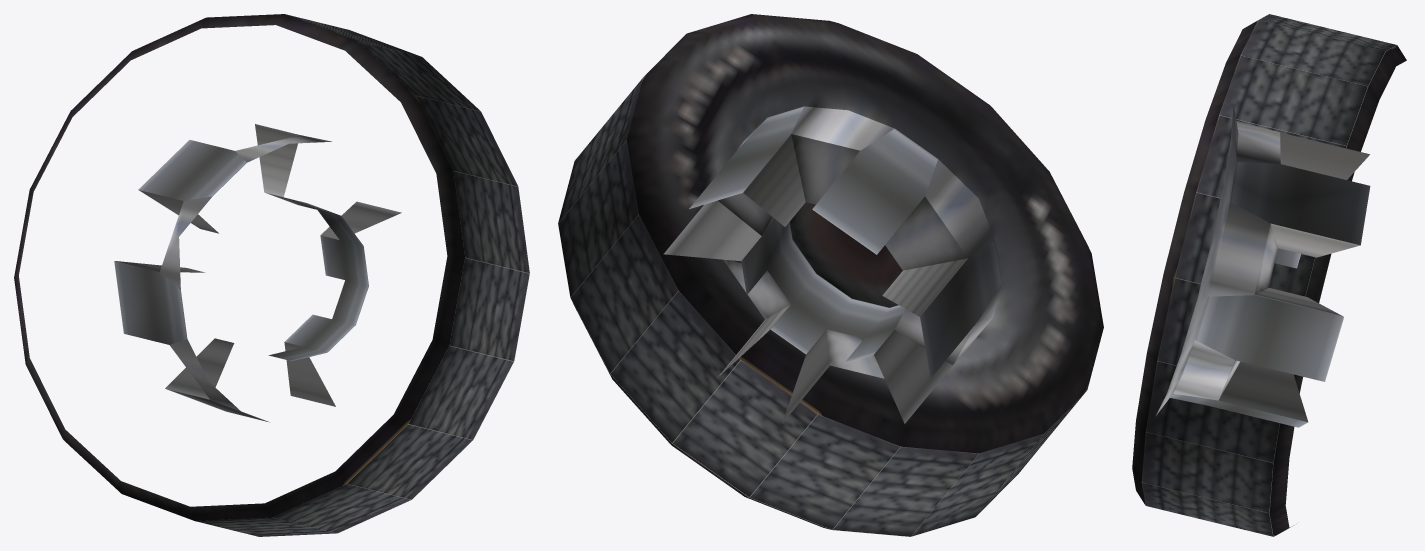
Rendered from teen18.gltf.
The picture shows the model from 3 angles, left to right: view 1: azimuth 30°, elevation 25°; view 2: azimuth 150°, elevation 25°; view 3: azimuth 270°, elevation 25°; orthographic projection. The views are drawn at different scales.
Visible parts, largest first — view 1: teen18; view 2: teen18; view 3: teen18.
Part boxes in pixels (x1,y1,x2,y2): teen18: (14, 14, 529, 536); teen18: (558, 14, 1103, 536); teen18: (1132, 14, 1406, 536).
Bounding box in the file's own units: 63.03 × 66.13 × 35.05.
1 material, 1 textured.
